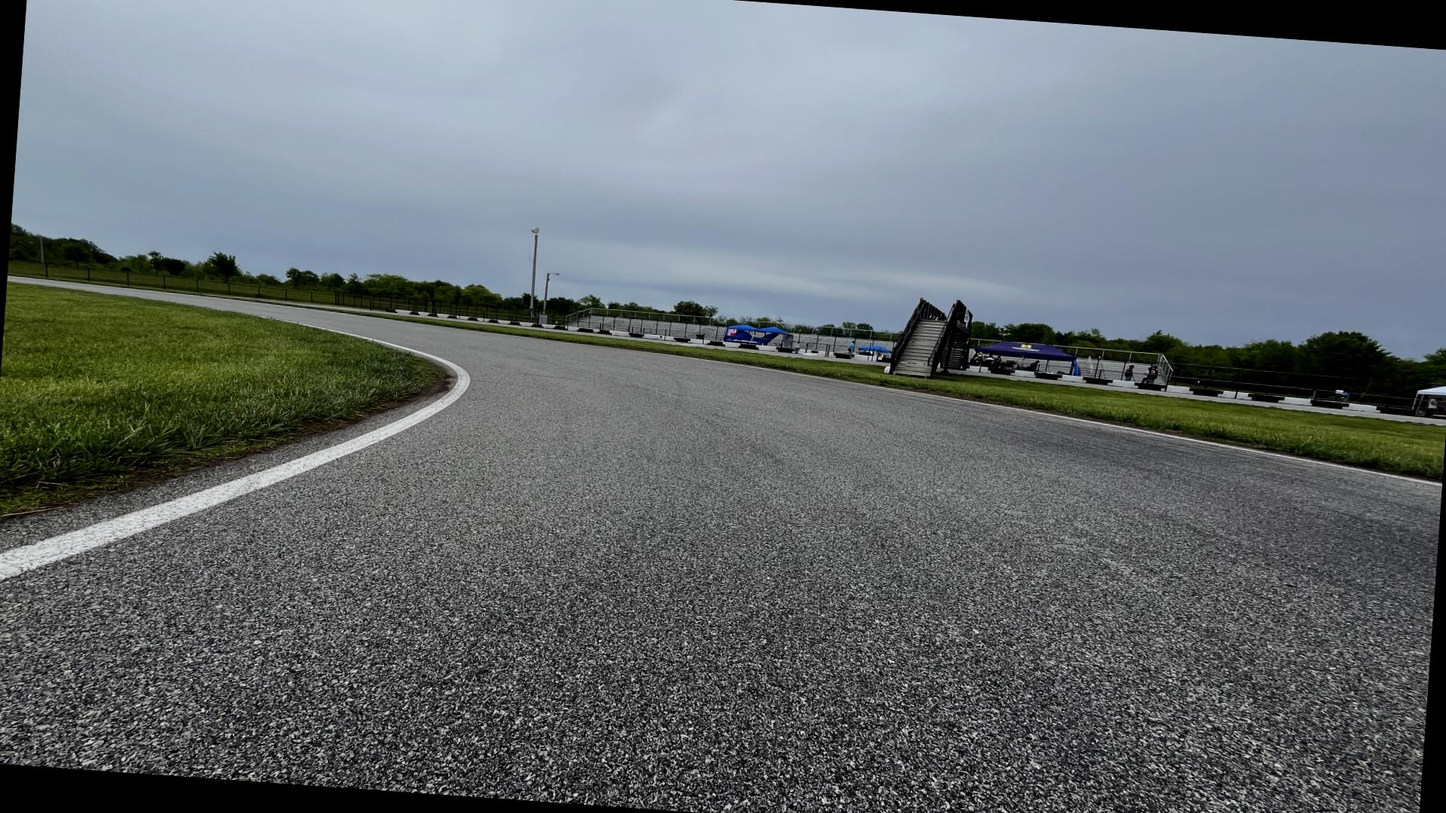white-line: (507, 335, 1441, 487), (0, 315, 470, 580)
